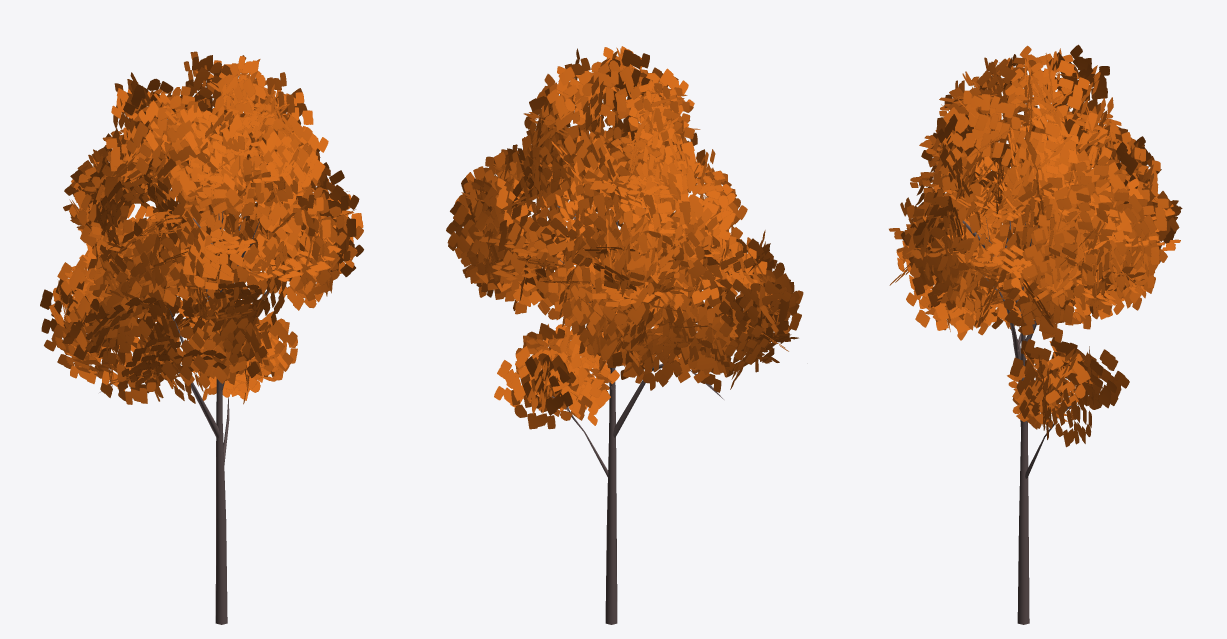
The model's file is tree_deciduous_04.glb.
3 views of the same model, side by side, from view 1: azimuth 30°, elevation 25°; view 2: azimuth 150°, elevation 25°; view 3: azimuth 270°, elevation 25° (orthographic).
Visible parts, largest first — view 1: env; view 2: env; view 3: env.
Boxes of the visible parts, x1=… form: env: x1=40, y1=51, x2=363, y2=624; env: x1=446, y1=46, x2=803, y2=624; env: x1=889, y1=44, x2=1182, y2=624.
Bounding box in the file's own units: 3.64 × 5.88 × 3.16.
1 material, 1 textured.
